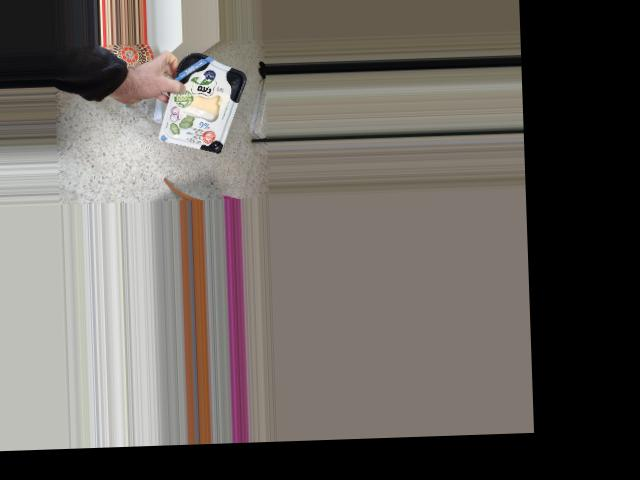cheese: (164, 55, 235, 153)
